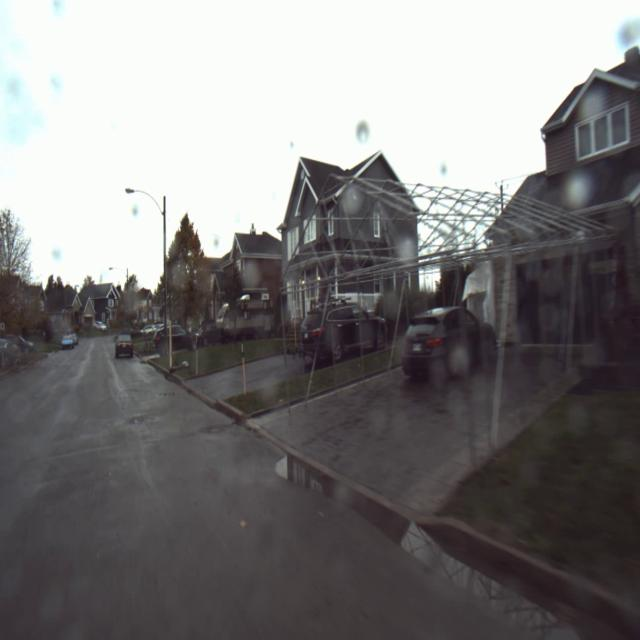car: (114, 323, 137, 365)
